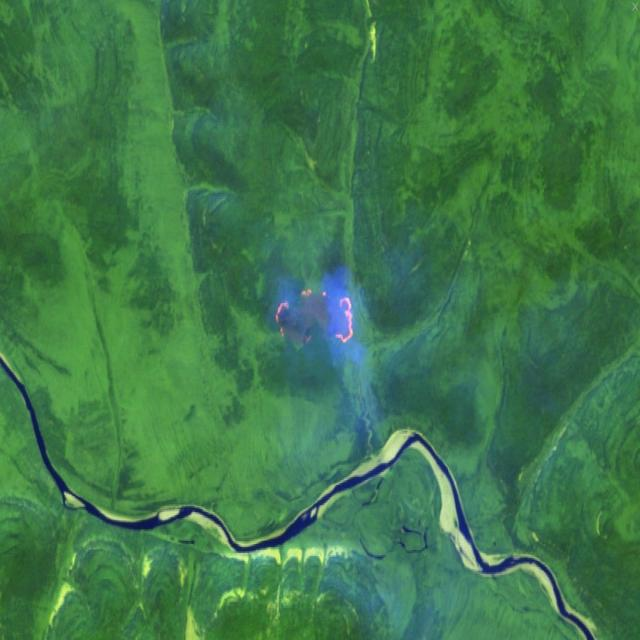fire: (270, 278, 360, 356)
